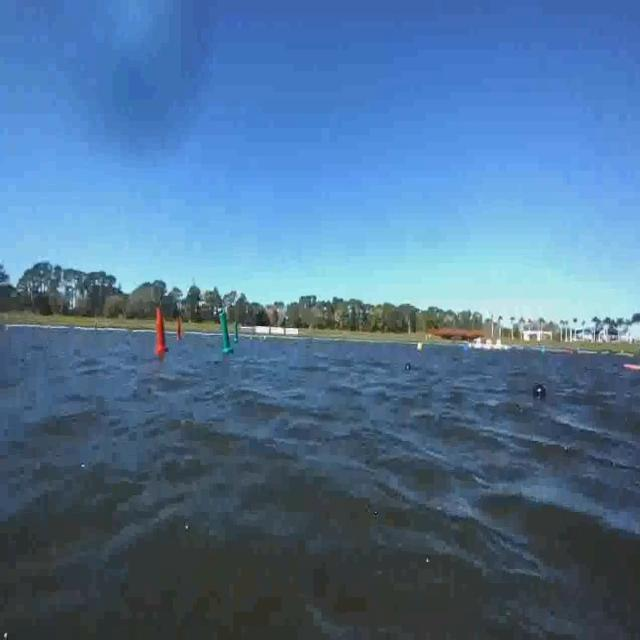black-buoy: (532, 383, 546, 401), (406, 363, 412, 374)
green-column-buoy: (218, 310, 233, 354), (235, 321, 241, 341)
red-column-buoy: (156, 308, 170, 354), (176, 318, 184, 340)
yellow-buoy: (416, 341, 425, 355)
